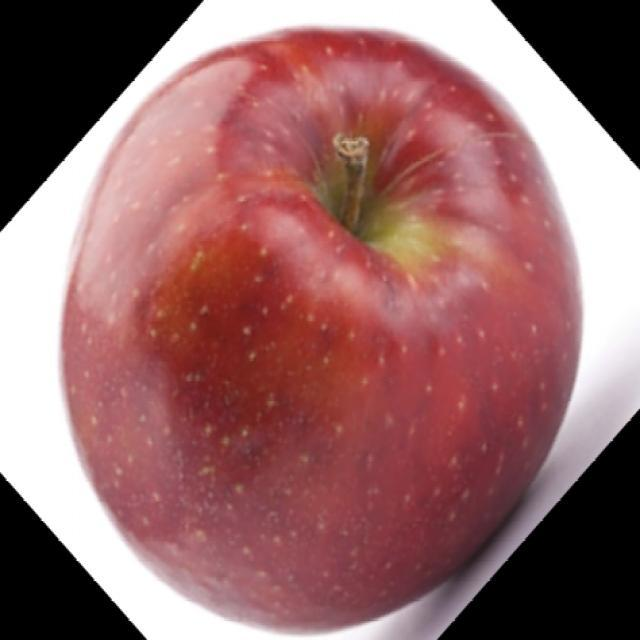Fresh Apple: (49, 20, 584, 635)
